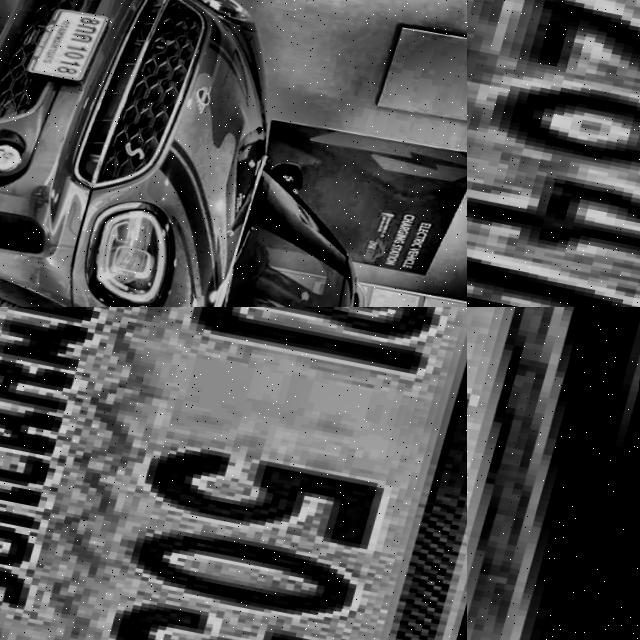license-plate: (0, 307, 467, 640), (467, 307, 640, 640), (467, 0, 640, 307), (16, 0, 116, 88)
